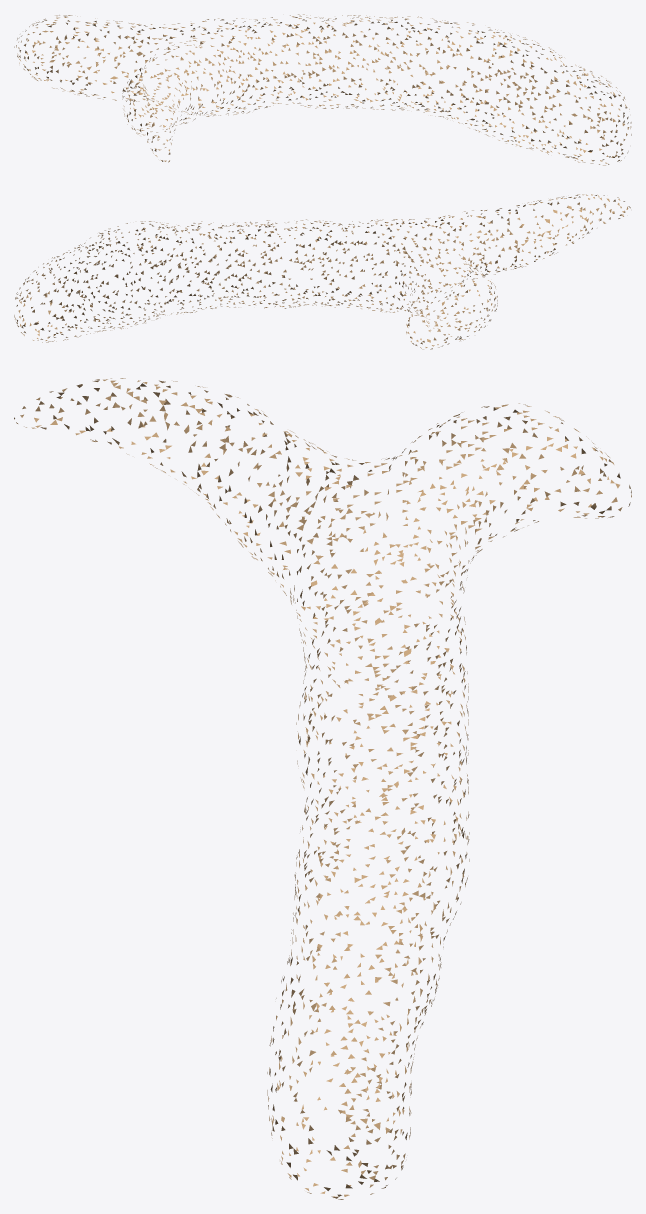
File: morph_006.glb
The picture shows the model from 3 angles, top to bottom: view 1: azimuth 30°, elevation 25°; view 2: azimuth 150°, elevation 25°; view 3: azimuth 270°, elevation 25°; orthographic projection. The views are drawn at different scales.
Size of the model in its own units: 115 by 45.81 by 64.61.
